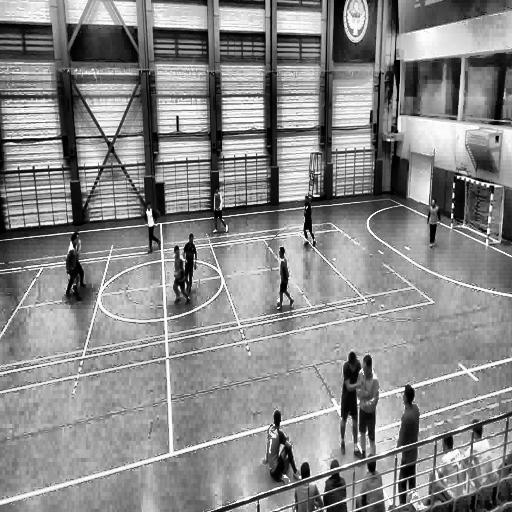ball: (276, 295, 281, 309)
player: (353, 354, 379, 466), (394, 384, 420, 490), (67, 234, 88, 298), (276, 245, 294, 310), (182, 232, 198, 298), (172, 244, 188, 306), (302, 192, 316, 246), (145, 202, 160, 252), (212, 187, 228, 232), (426, 197, 439, 249), (73, 227, 82, 300)
